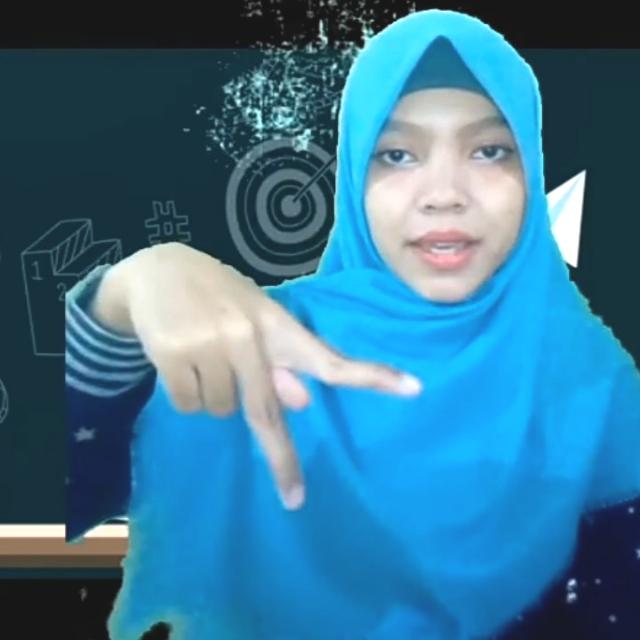P: (93, 231, 444, 539)
